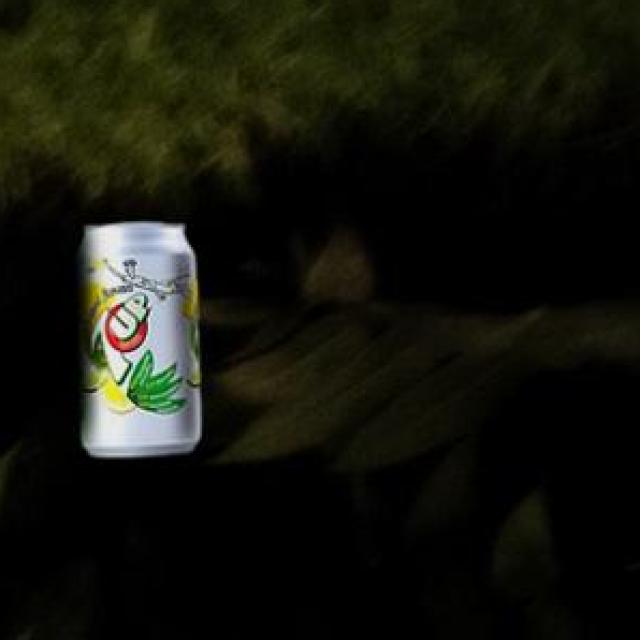logam: (87, 227, 203, 461)
